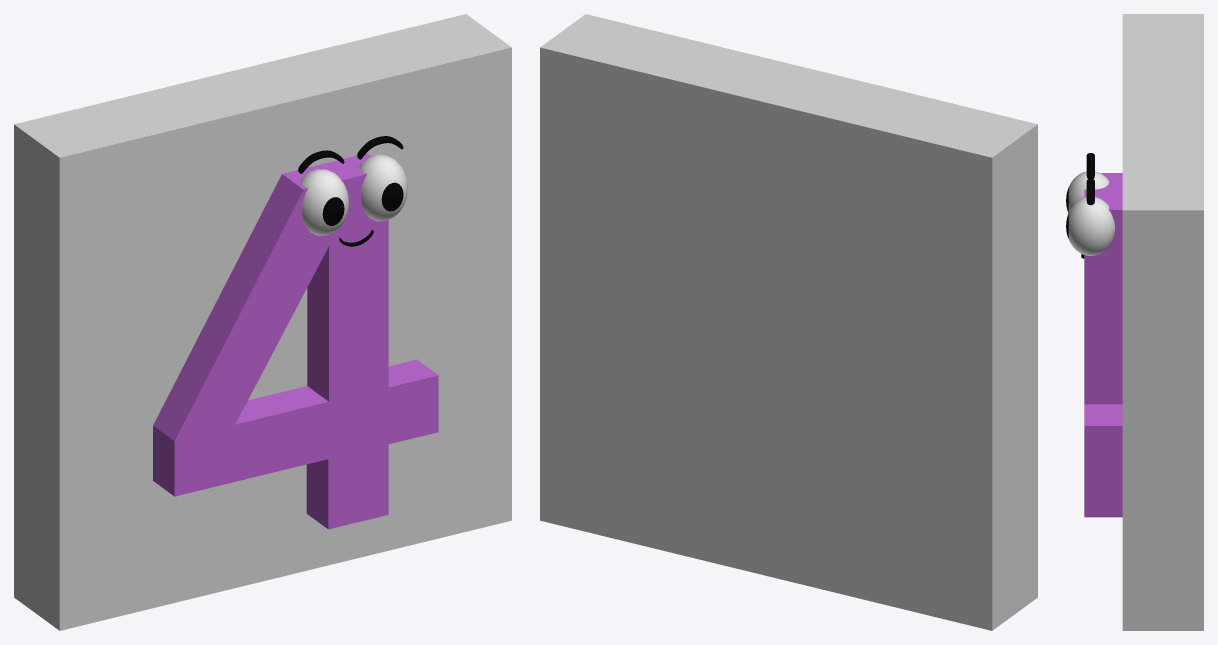
File: choice4.fbx
The picture shows the model from 3 angles, left to right: view 1: azimuth 30°, elevation 25°; view 2: azimuth 150°, elevation 25°; view 3: azimuth 270°, elevation 25°; orthographic projection. The views are drawn at different scales.
Visible parts, largest first — view 1: square5; view 2: square5; view 3: square5.
Part boxes in pixels (x1,y1,x2,y2): square5: (14, 14, 511, 630); square5: (540, 14, 1037, 630); square5: (1066, 14, 1203, 630).
Size of the model in its own units: 6 by 6 by 1.78.
